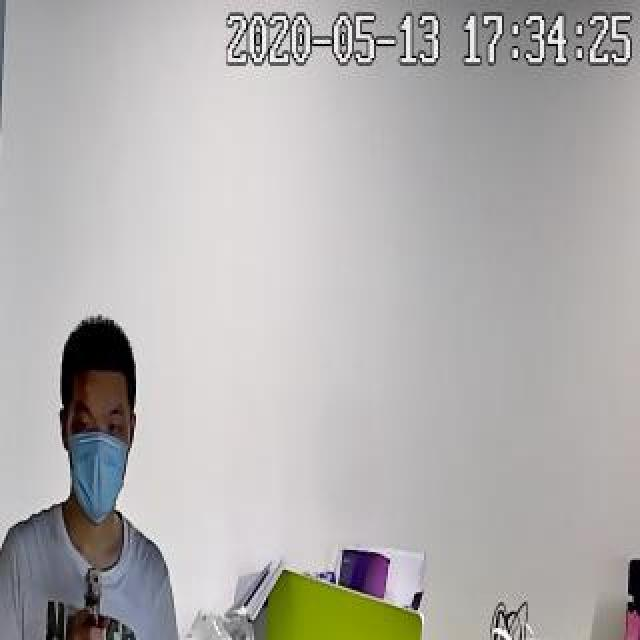Guns: (70, 556, 116, 640)
